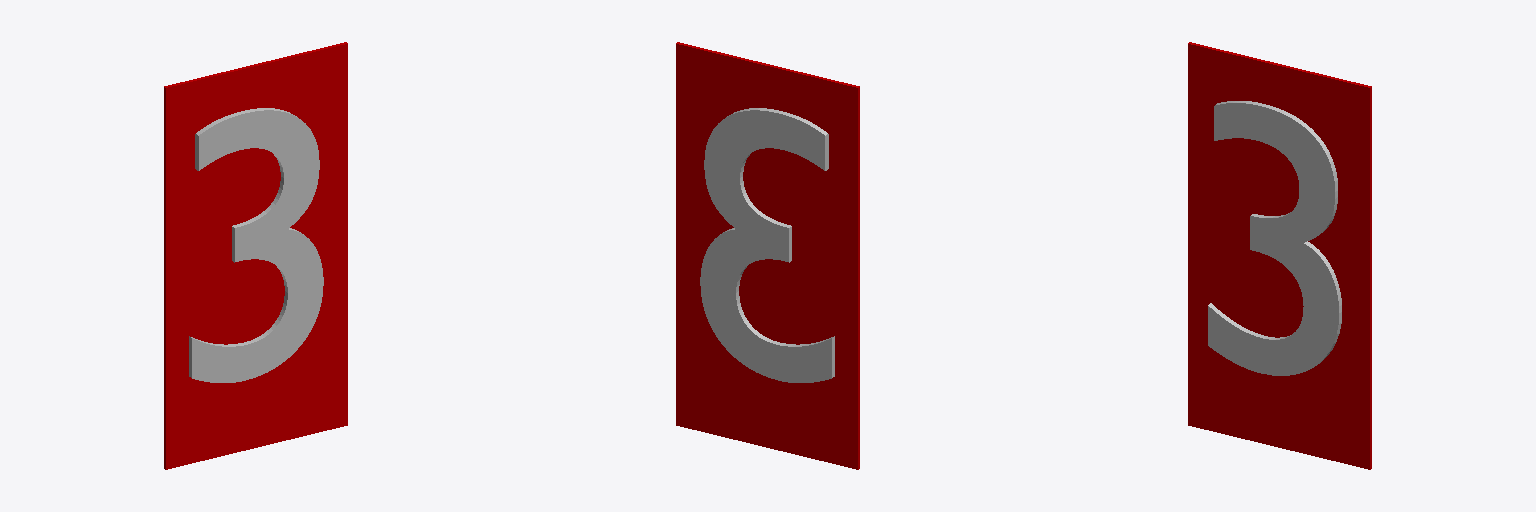
Rendered from room3.obj.
3 views of the same model, side by side, from view 1: azimuth 30°, elevation 25°; view 2: azimuth 150°, elevation 25°; view 3: azimuth 330°, elevation 25° (orthographic).
Visible parts, largest first — view 1: Cube, Text; view 2: Cube, Text; view 3: Cube, Text.
Part boxes in pixels (x1,y1,x2,y2): Cube: (164,42,347,469); Text: (189,108,323,382); Cube: (676,42,859,469); Text: (700,108,834,382); Cube: (1188,42,1371,469); Text: (1208,101,1341,375).
Bounding box in the file's own units: 1 × 2 × 0.08.